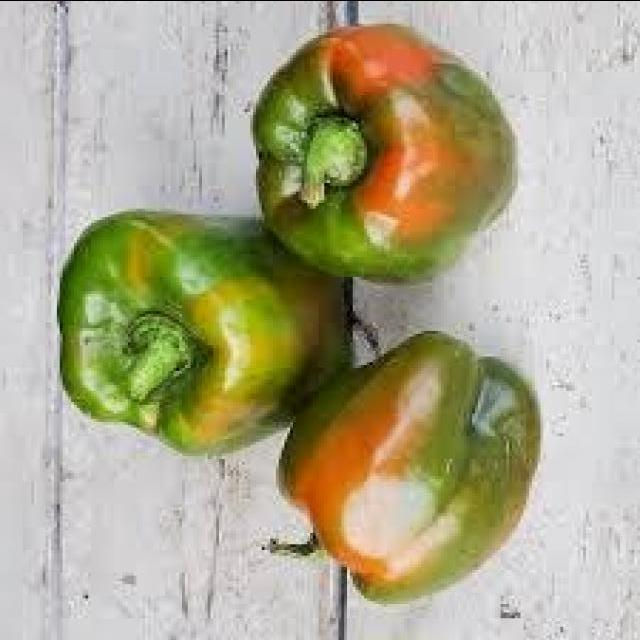bell_pepper: (251, 320, 554, 615), (240, 10, 533, 302), (46, 209, 370, 471)
